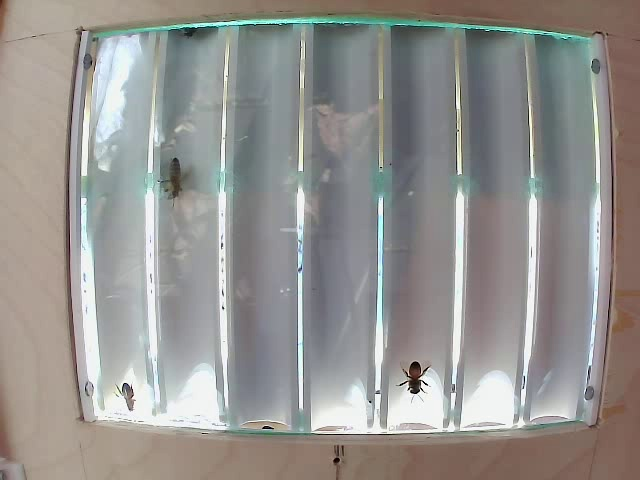bee: (145, 149, 193, 201), (390, 350, 430, 400)
